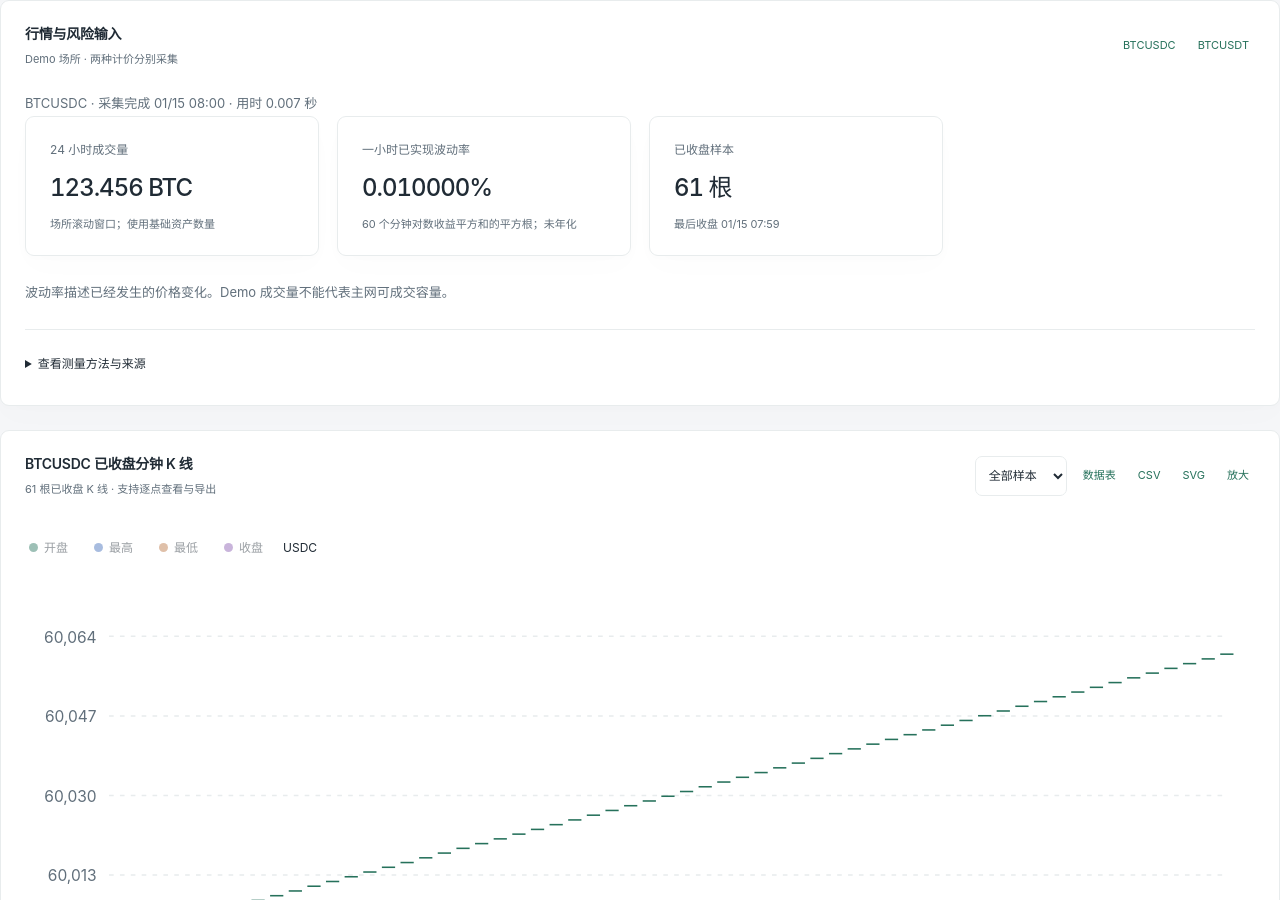
Test: preserves quote separation, inspectable closed candles and historical data
Later steps or results of the test are not shown.
Check: the text "123.456 BTC" is shown, box x1=50 y1=173 x2=192 y2=202
Click the button "BTCUSDT" at [1223, 46], box x1=1192 y1=30 x2=1255 y2=62
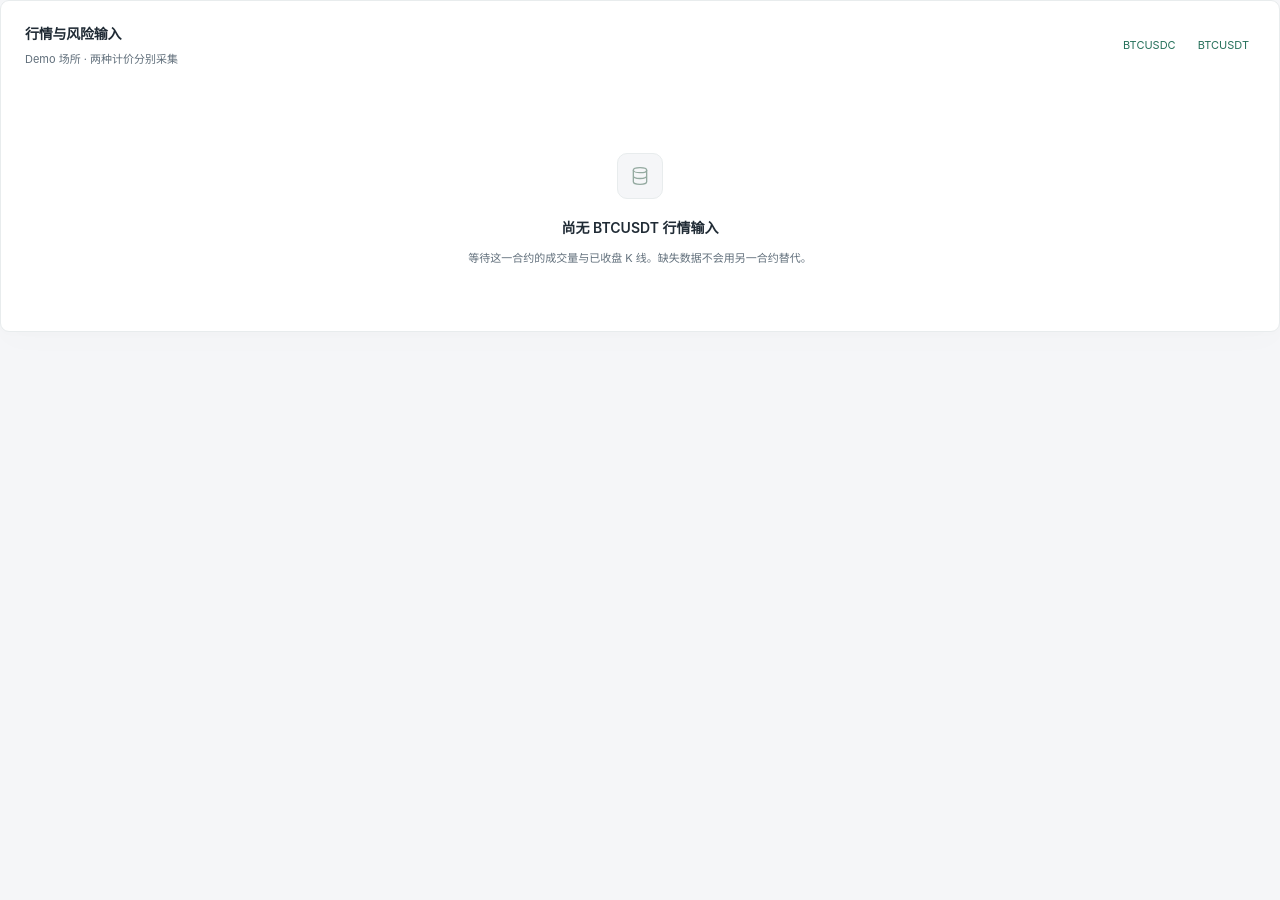
Check: the heading "尚无 BTCUSDT 行情输入" is shown, box x1=562 y1=217 x2=718 y2=239
Check: the text "123.456 BTC" is gone
